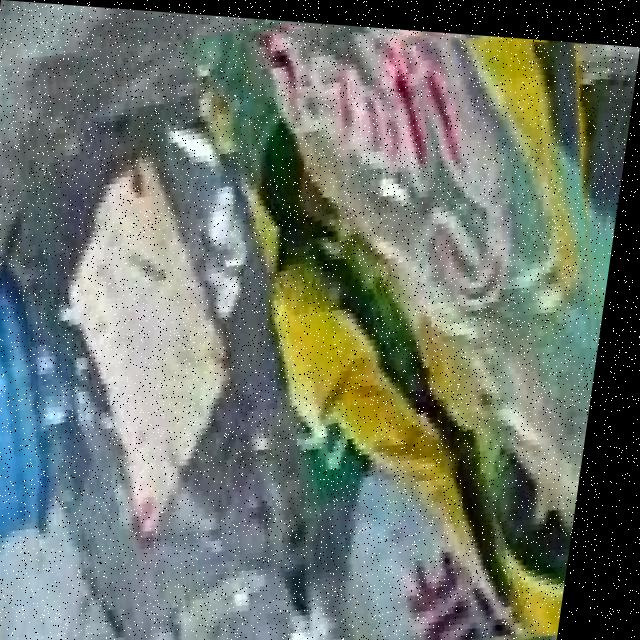litter: (0, 23, 600, 640)
